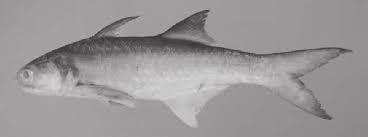Fourfinger Threadfish: (18, 8, 350, 131)
